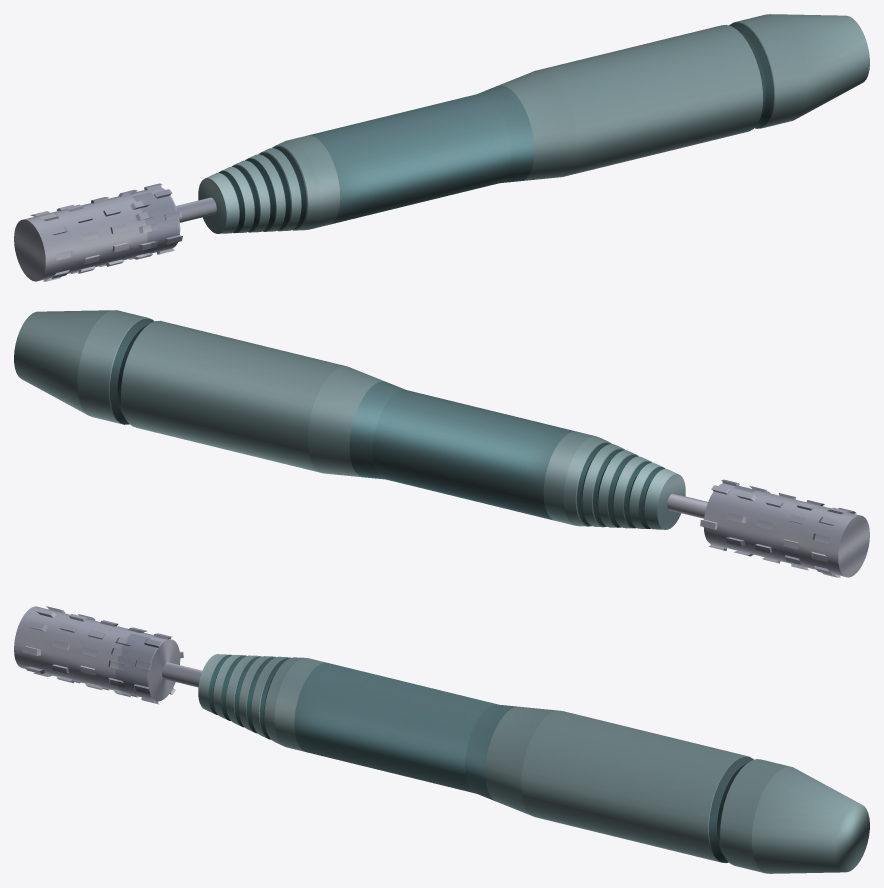
File: Nail drill machine 1.fbx
The picture shows the model from 3 angles, top to bottom: view 1: azimuth 30°, elevation 25°; view 2: azimuth 150°, elevation 25°; view 3: azimuth 330°, elevation 25°; orthographic projection.
Visible parts, largest first — view 1: nail drill machine, Nail drill; view 2: nail drill machine, Nail drill; view 3: nail drill machine, Nail drill.
Boxes of the visible parts, x1,y1,x2,y2 form: nail drill machine: (198, 14, 869, 233); Nail drill: (14, 183, 216, 281); nail drill machine: (14, 310, 685, 529); Nail drill: (667, 479, 869, 577); nail drill machine: (198, 654, 869, 873); Nail drill: (14, 606, 202, 704).
Bounding box in the file's own units: 1730 × 200 × 200.
1 material, 1 textured.
